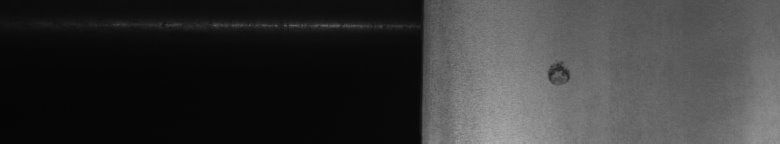fi: (540, 56, 576, 90)
